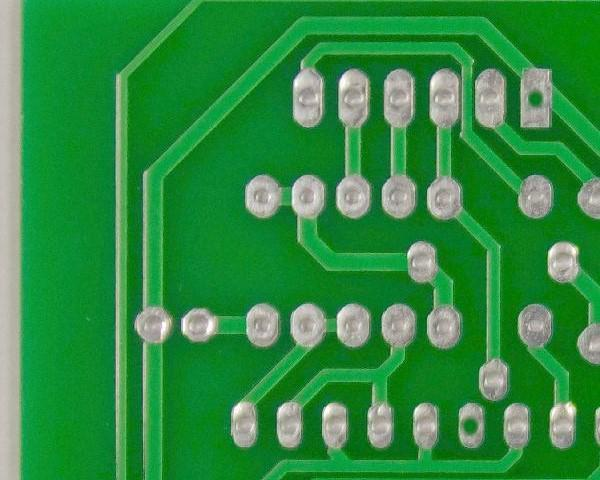missing hole: (519, 63, 554, 131), (451, 398, 493, 453)
